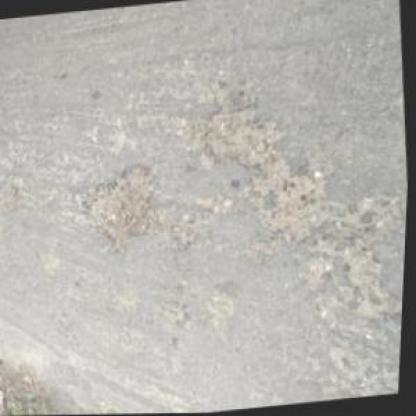pothole: (78, 161, 169, 261), (240, 159, 335, 254), (198, 98, 287, 175)
